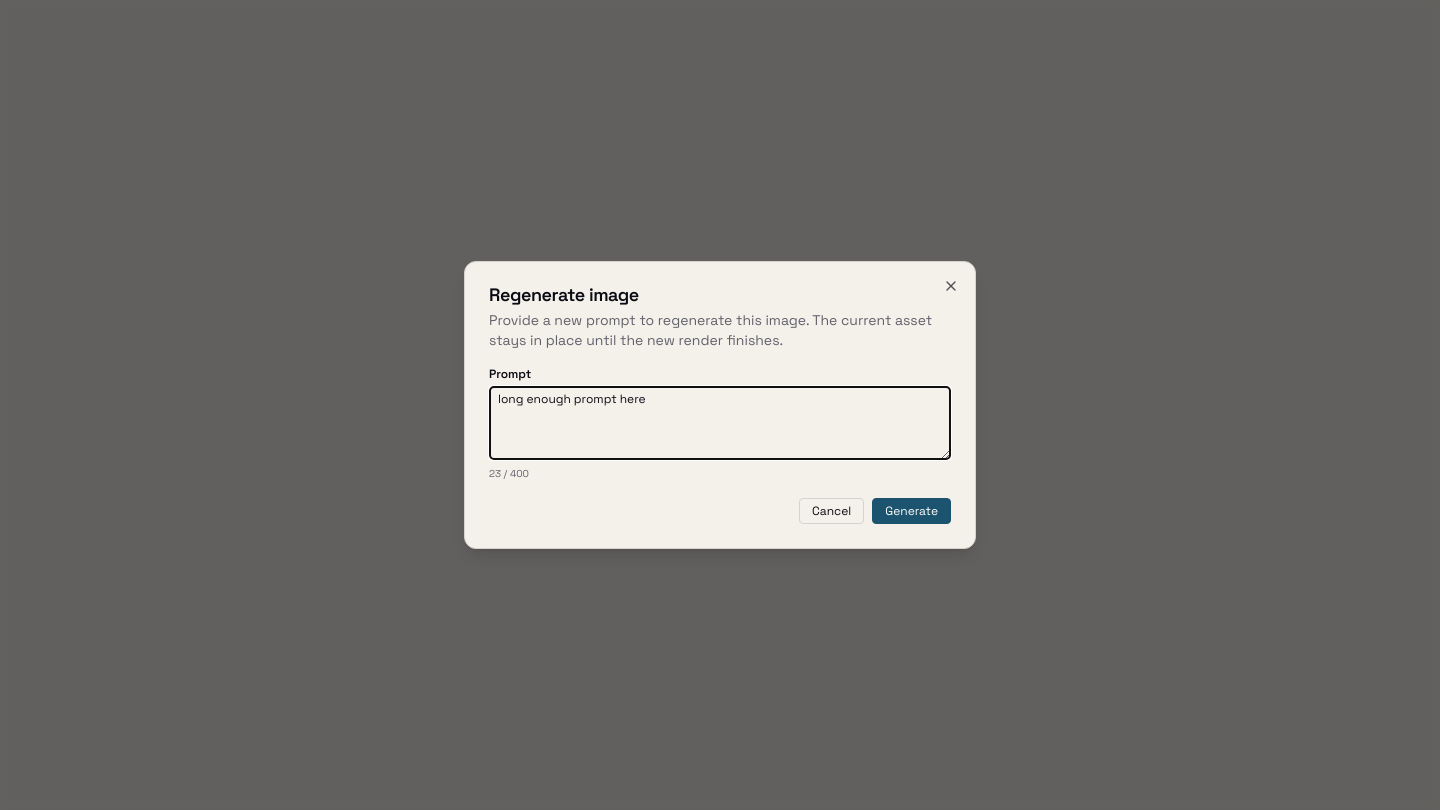
Test: RegenerateImageDialog › surfaces fetch errors inline
Click the button with test id "pitch-regen-image-submit". click: (912, 511)
box: x1=872 y1=498 x2=951 y2=524
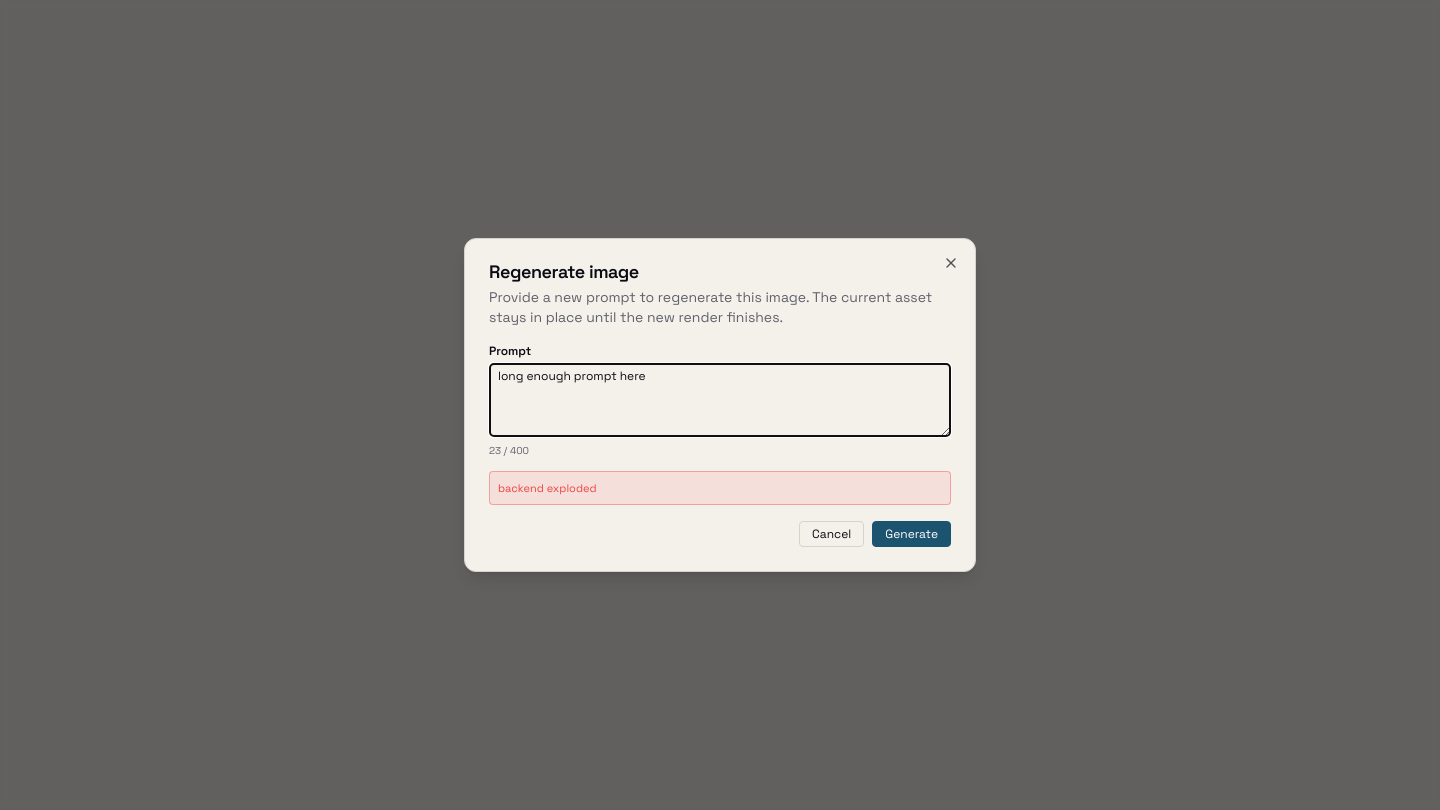
Result: the text with test id "pitch-regen-image-error" reads "backend exploded" at x1=498 y1=481 x2=597 y2=495
